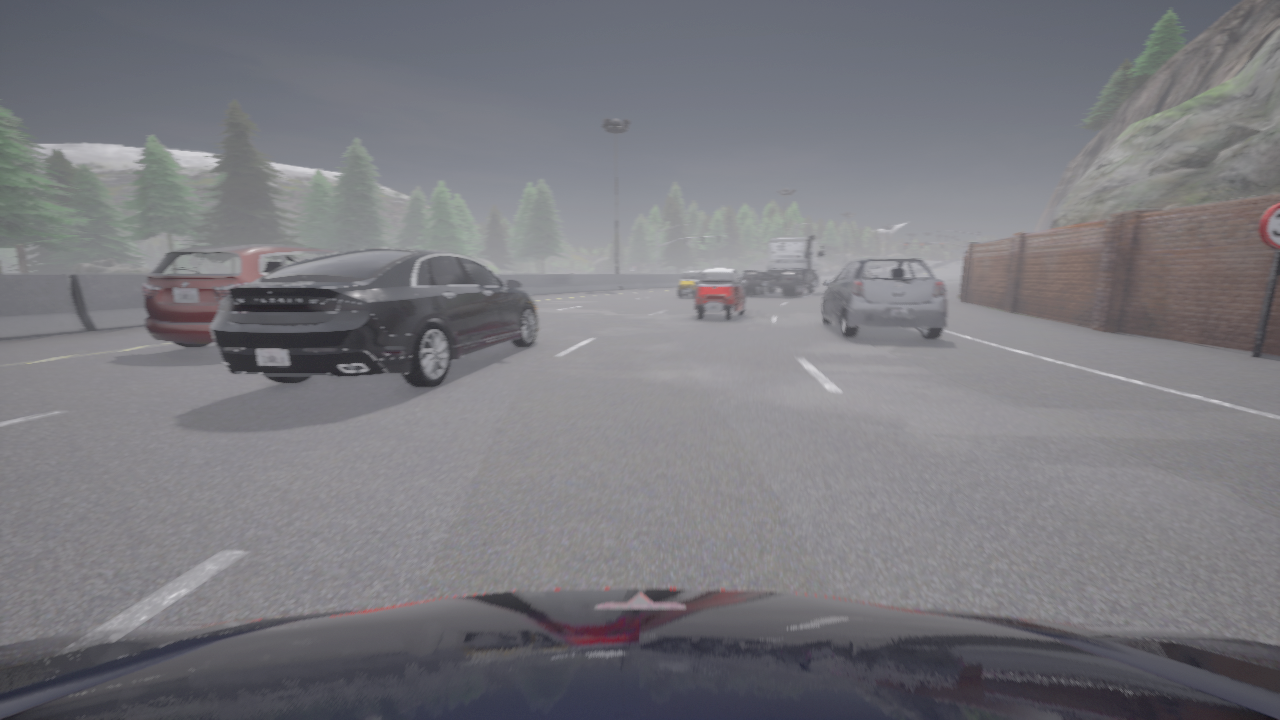cyclist: (0, 588, 1279, 719), (210, 247, 537, 387), (142, 244, 338, 348), (821, 258, 946, 339), (740, 234, 823, 296), (694, 268, 746, 320), (678, 270, 702, 297), (834, 270, 841, 279)
